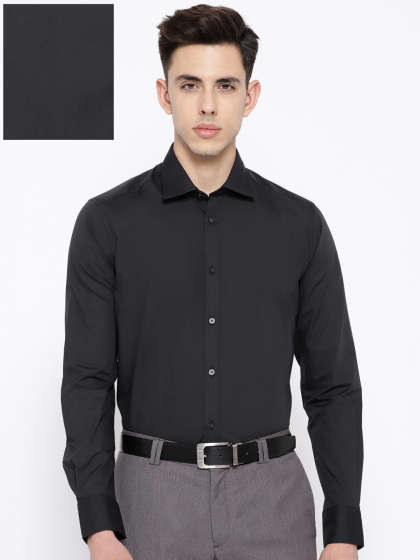F_belt: (119, 426, 313, 471)
F_shirt: (61, 147, 365, 542)
